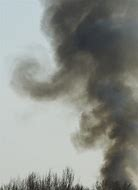smoke: (44, 1, 138, 163)
